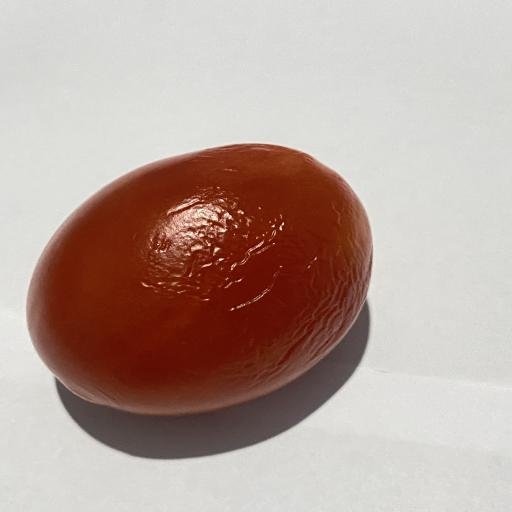spoiled: (27, 144, 372, 415)
